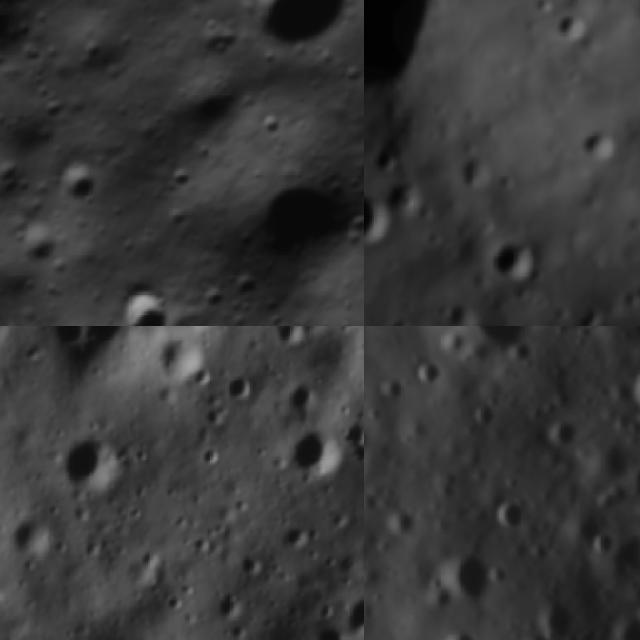crater: (211, 129, 364, 300), (212, 0, 364, 74), (151, 52, 254, 154), (364, 0, 448, 109), (423, 530, 518, 618), (0, 201, 78, 278), (101, 271, 190, 326), (46, 147, 116, 216), (484, 488, 542, 546), (534, 405, 594, 459), (65, 433, 120, 487), (290, 424, 343, 476), (575, 519, 627, 567), (612, 339, 640, 426), (484, 238, 540, 280), (403, 352, 452, 398), (580, 118, 626, 166), (461, 394, 508, 440), (165, 341, 211, 382), (364, 397, 388, 473), (426, 616, 495, 640), (458, 151, 495, 194), (364, 193, 392, 247), (554, 9, 588, 46), (21, 524, 58, 558), (446, 295, 481, 326), (281, 385, 318, 413), (372, 140, 400, 175), (231, 363, 257, 400), (56, 326, 90, 344), (271, 326, 298, 347), (528, 0, 556, 20), (318, 621, 347, 640)
